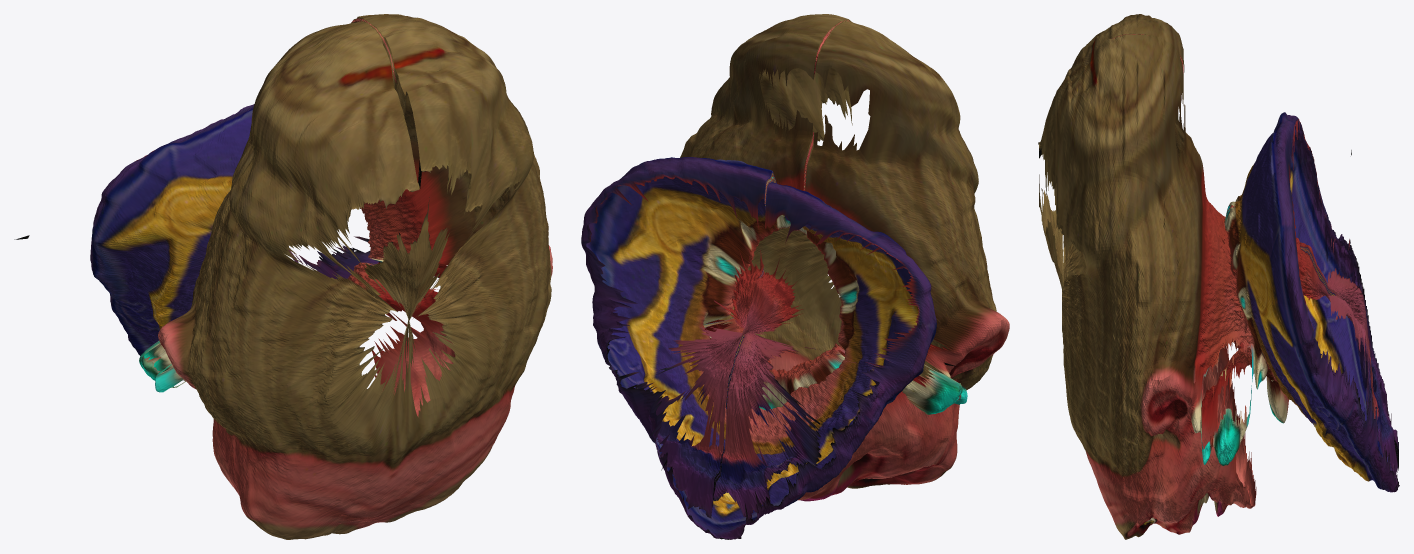
3 renders of one model, left to right at view 1: azimuth 30°, elevation 25°; view 2: azimuth 150°, elevation 25°; view 3: azimuth 270°, elevation 25°, orthographic. The views are drawn at different scales.
Parts seen in each view (by area): view 1: geometry_0; view 2: geometry_0; view 3: geometry_0.
Part boxes in pixels (x1=…): geometry_0: x1=14, y1=14, x2=552, y2=539; geometry_0: x1=581, y1=14, x2=1009, y2=539; geometry_0: x1=1038, y1=14, x2=1399, y2=539.
Bounding box in the file's own units: 1.71 × 1.9 × 1.26.
1 material, 1 textured.
